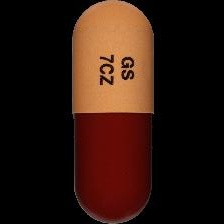0173-0809: (0, 0, 224, 224)
